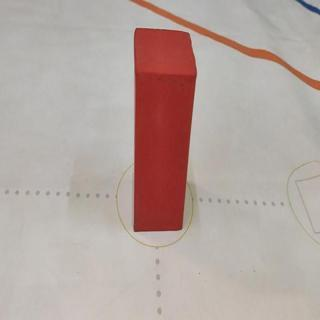redbox: (133, 26, 198, 233)
